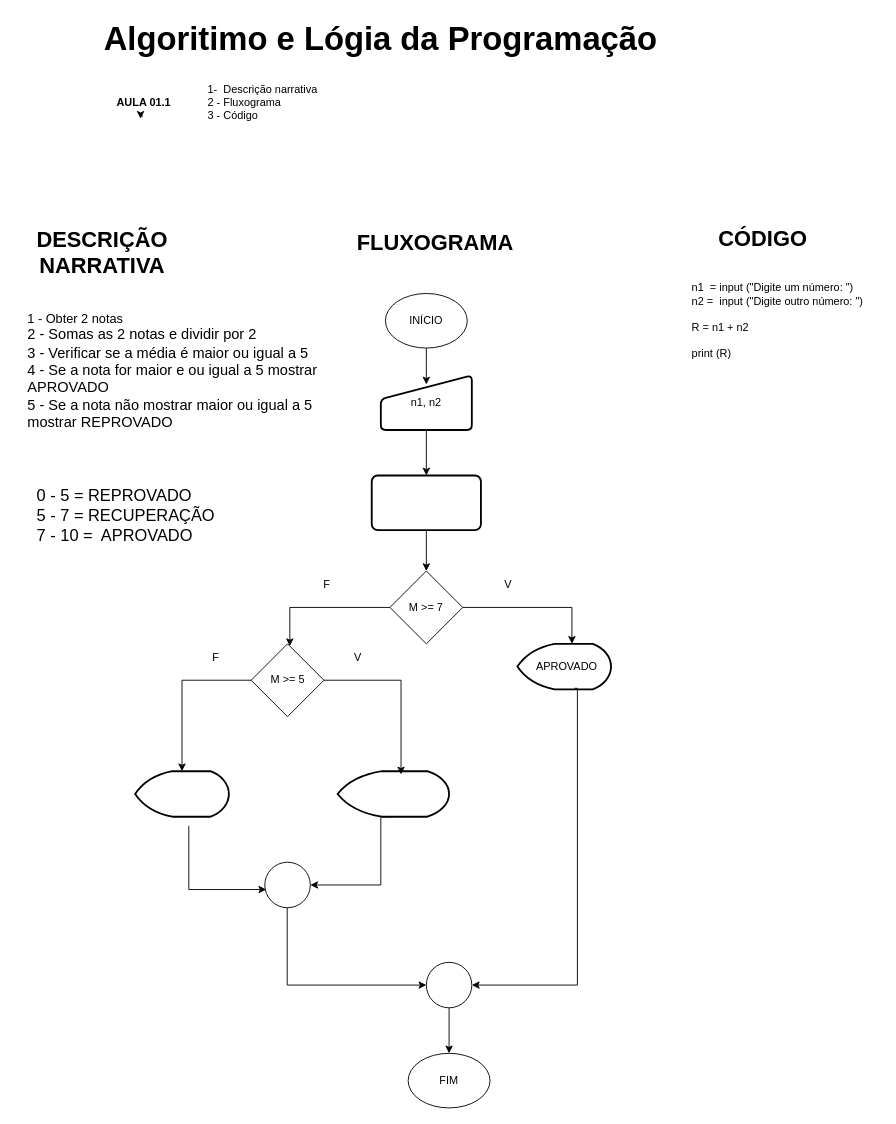
Image size: 896x1124. Some labels were removed from this diagram. Each missing label, with the centre of its shape:
M = (n1 + n2)/ 2: (425,502)
RECUPERAÇÃO: (393,793)
REPROVADO: (181,793)
